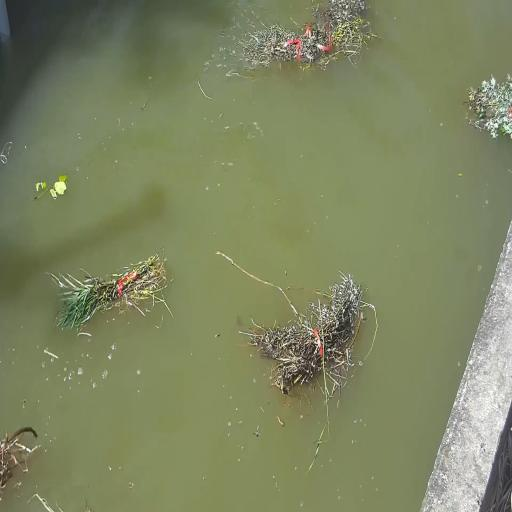twig: (245, 262, 365, 398), (232, 0, 380, 75), (46, 264, 180, 335), (0, 417, 47, 501), (471, 57, 512, 141), (19, 168, 80, 224)
